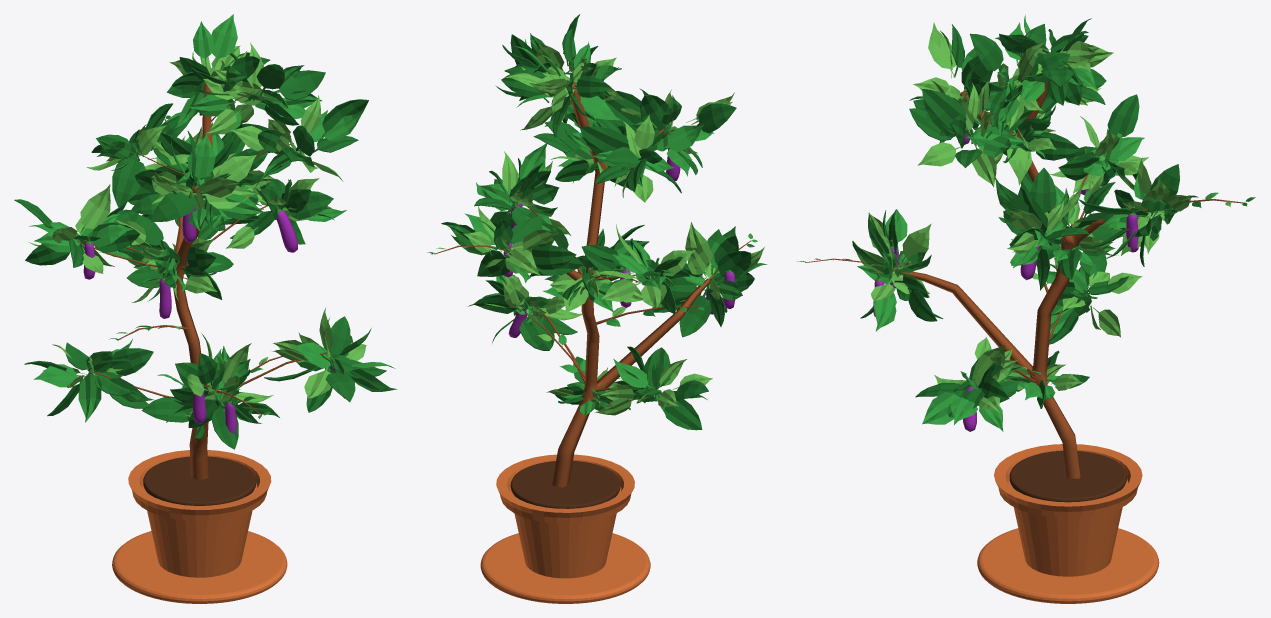
Rendered from plant san.fbx.
3 renders of one model, left to right at view 1: azimuth 30°, elevation 25°; view 2: azimuth 150°, elevation 25°; view 3: azimuth 270°, elevation 25°, orthographic. The views are drawn at different scales.
Parts seen in each view (by area): view 1: Terracotta Pot (source), Terracotta Saucer, Rich Potting Soil, Main Trunk (source), Crown Leaf.213, Crown Leaf.040, Crown Leaf.183, Crown Leaf.238, Crown Leaf.097, Crown Leaf.137, Crown Leaf.132, Crown Leaf.035 (+24 smaller); view 2: Terracotta Pot (source), Terracotta Saucer, Main Trunk (source), Rich Potting Soil, Crown Leaf.207, Crown Leaf.109, Crown Leaf.062, Crown Leaf, Crown Leaf.028, Crown Leaf.134, Crown Leaf.043, Crown Leaf.034 (+22 smaller); view 3: Terracotta Pot (source), Terracotta Saucer, Main Trunk (source), Rich Potting Soil, Crown Leaf.200, Crown Leaf.178, Crown Leaf.232, Crown Leaf.150, Crown Leaf.113, Crown Leaf.036, Crown Leaf.315, Crown Leaf.229 (+2 smaller).
Part boxes in pixels (box(x1,y1,x2,y2)): Terracotta Pot (source): box(128, 450, 271, 577); Terracotta Saucer: box(112, 531, 287, 603); Rich Potting Soil: box(143, 456, 256, 505); Main Trunk (source): box(173, 83, 219, 480); Crown Leaf.213: box(112, 156, 145, 208); Crown Leaf.040: box(151, 191, 203, 221); Crown Leaf.183: box(80, 184, 110, 235); Crown Leaf.238: box(270, 70, 325, 100); Crown Leaf.097: box(211, 14, 237, 68); Crown Leaf.137: box(109, 348, 153, 375); Crown Leaf.132: box(78, 372, 101, 422); Crown Leaf.035: box(188, 132, 215, 186); Terracotta Pot (source): box(496, 454, 634, 578); Terracotta Saucer: box(480, 533, 650, 603); Main Trunk (source): box(512, 81, 710, 487); Rich Potting Soil: box(510, 460, 620, 508); Crown Leaf.207: box(579, 126, 629, 154); Crown Leaf.109: box(519, 304, 554, 350); Crown Leaf.062: box(531, 244, 576, 269); Crown Leaf: box(679, 286, 711, 337); Crown Leaf.028: box(697, 103, 736, 133); Crown Leaf.134: box(658, 396, 702, 430); Crown Leaf.043: box(604, 91, 642, 125); Crown Leaf.034: box(640, 94, 669, 134); Terracotta Pot (source): box(994, 444, 1142, 576); Terracotta Saucer: box(977, 528, 1159, 603); Main Trunk (source): box(895, 52, 1147, 478); Rich Potting Soil: box(1009, 450, 1126, 502); Crown Leaf.200: box(922, 89, 970, 136); Crown Leaf.178: box(1107, 94, 1139, 136); Crown Leaf.232: box(970, 33, 1003, 71); Crown Leaf.150: box(1030, 168, 1056, 212); Crown Leaf.113: box(922, 392, 962, 424); Crown Leaf.036: box(928, 22, 956, 77); Crown Leaf.315: box(1036, 132, 1079, 160); Crown Leaf.229: box(1024, 52, 1070, 82).
Size of the model in its own units: 6.06 by 10.26 by 7.69.
